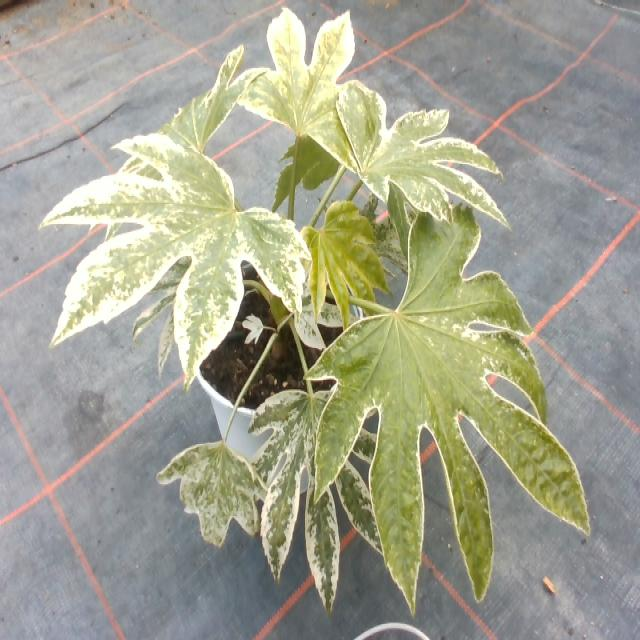Fatsia-japonica: (313, 170, 598, 640), (46, 118, 312, 359), (65, 42, 270, 256), (238, 374, 408, 598), (324, 65, 514, 245), (206, 2, 378, 176), (155, 425, 259, 564), (286, 193, 396, 316)
